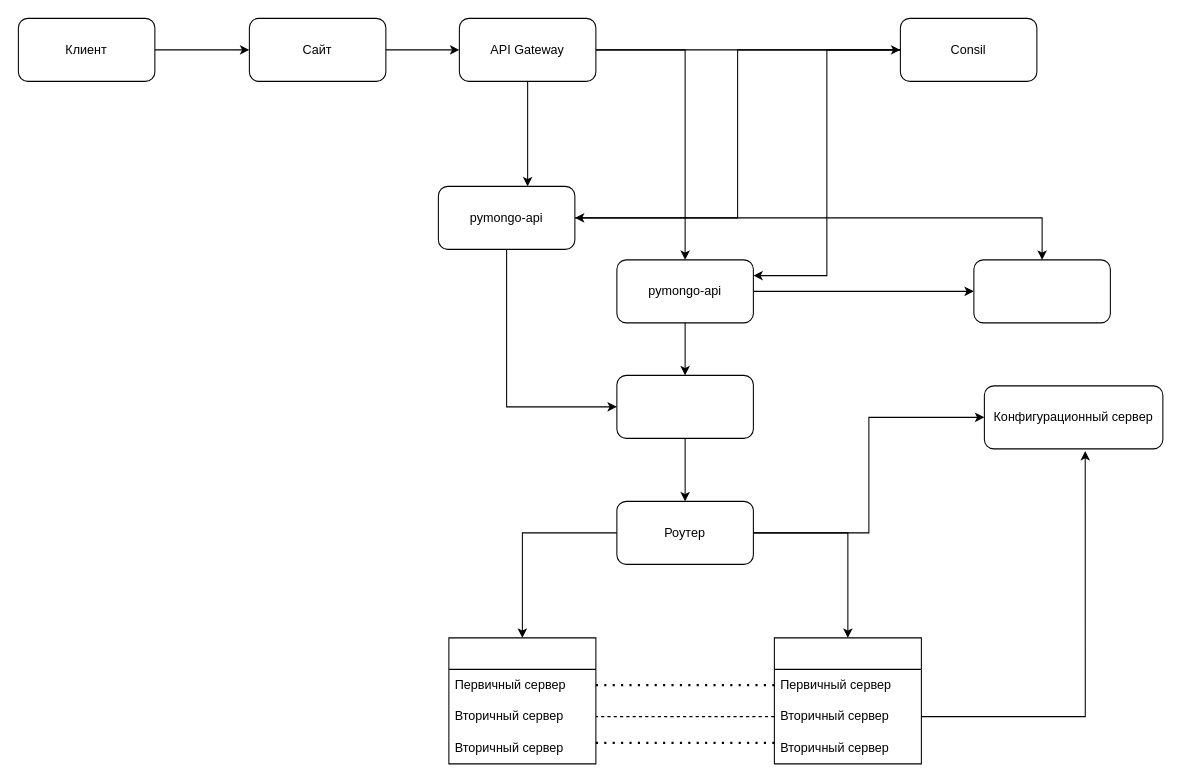
Some shapes in this 1181 by 782 pixel diagram are drawn without their labels. The shapes that lost their labels are listed below. From the top down, each one's box as (x1, y1, x2, y2) in pixels, then its label:
(973, 259, 1110, 323): Redis
(616, 374, 753, 438): Драйвер
(448, 637, 596, 764): Шард 1
(773, 637, 921, 764): Шард 2
